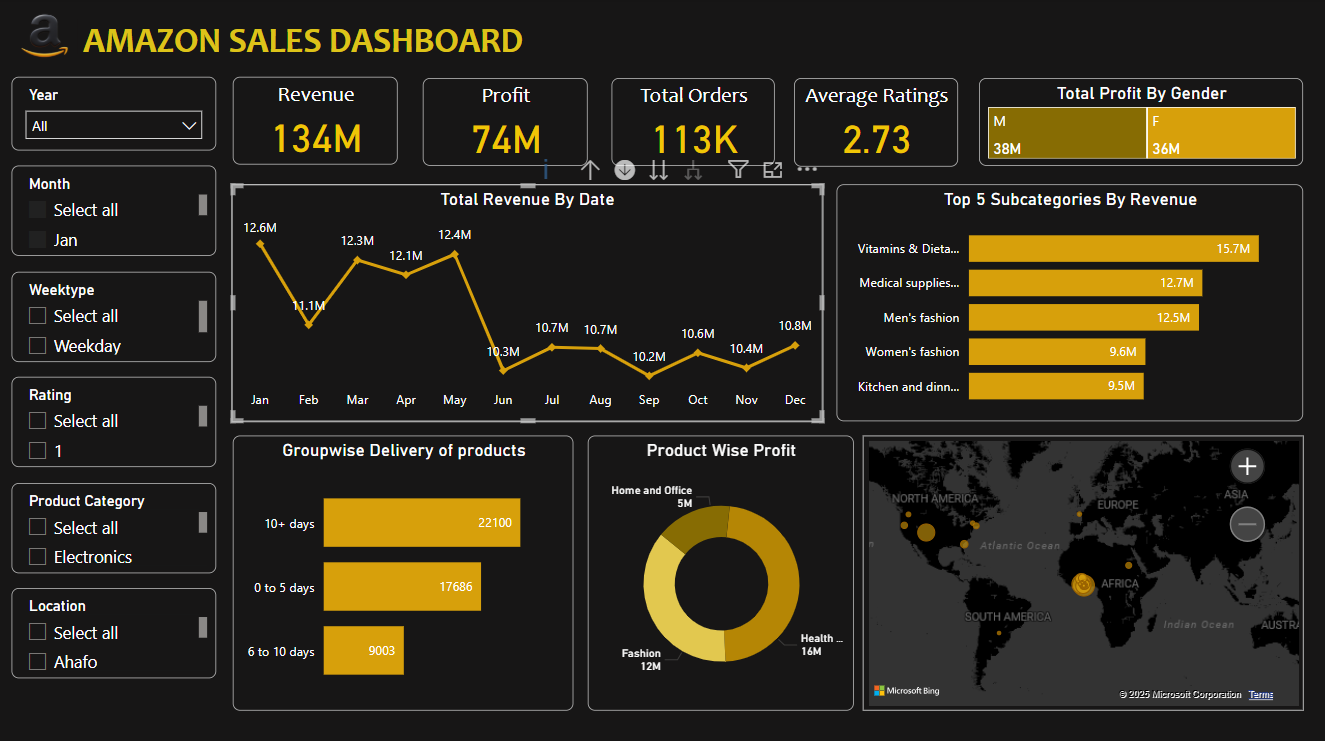

The page's visual inventory and layout, read from the dashboard file:
{"tool":"powerbi","page":{"name":"Page 1","canvas":[1280,720],"ordinal":0},"visuals":[{"type":"textbox","title":"AMAZON SALES DASHBOARD","box":[76.2,20,450,33.8],"z":0},{"type":"slicer","title":"Year","fields":{"Values":["Calender.Year"]},"box":[12.1,76,197.9,71.2],"z":1000},{"type":"slicer","fields":{"Values":["Calender.Month"]},"box":[12.1,162.1,197.9,86.9],"z":2000},{"type":"slicer","fields":{"Values":["Calender.Weektype"]},"box":[12.1,264,197.9,86.9],"z":3000},{"type":"slicer","fields":{"Values":["Ecommerce.Rating"]},"box":[12.1,365.8,197.9,86.9],"z":4000},{"type":"slicer","fields":{"Values":["Ecommerce.Product Category"]},"box":[12.1,467.6,197.9,86.9],"z":5000},{"type":"slicer","fields":{"Values":["Ecommerce.Location"]},"box":[12.1,569.4,197.9,86.9],"z":6000},{"type":"card","title":"Revenue","fields":{"Values":["All Measures.Total Revenue"]},"box":[225.3,76.3,158.9,85.1],"z":7000},{"type":"card","title":"Profit","fields":{"Values":["All Measures.Total Profit"]},"box":[409.2,77.6,158.9,85.1],"z":8000},{"type":"card","title":"Total Orders","fields":{"Values":["All Measures.Total Orders"]},"box":[590.7,77.6,157.7,85.1],"z":9000},{"type":"card","title":"Average Ratings","fields":{"Values":["All Measures.Average Ratings"]},"box":[767.3,77.2,158,85.7],"z":10000},{"type":"image","box":[12.5,7.5,63.8,58.8],"z":11000},{"type":"lineChart","title":"Total Revenue By Date","fields":{"Category":["Calender.Year","Calender.Quarter","Calender.Month","Calender.Weektype"],"Y":["All Measures.Total Revenue"]},"box":[225,180,570,228.8],"z":12000},{"type":"clusteredBarChart","title":"Top 5 Subcategories By Revenue","fields":{"Category":["Ecommerce.SubCategory"],"Y":["All Measures.Total Revenue"]},"box":[808.4,180.2,450.5,229],"z":13000},{"type":"map","fields":{"Category":["Ecommerce.Location"],"Size":["All Measures.Total Revenue"]},"box":[833.5,421.7,425.5,265.3],"z":14000},{"type":"clusteredBarChart","title":"Groupwise Delivery of products","fields":{"Category":["Ecommerce.Delivery Days (groups)"],"Y":["CountNonNull(Ecommerce.Product)"]},"box":[225.3,421.7,329.1,265.3],"z":15000},{"type":"donutChart","title":"Product Wise Profit","fields":{"Category":["Ecommerce.Product Category"],"Y":["All Measures.Total Profit"]},"box":[568.2,421.7,256.6,265.3],"z":16000},{"type":"treemap","title":"Total Profit By Gender","fields":{"Group":["Ecommerce.Customer Gender"],"Values":["All Measures.Total Profit"]},"box":[946.1,77.6,312.9,85.1],"z":17000}]}

Visuals, with their boxes in screenshot pixels (x1, y1, x2, y2), scaled from the page's 1280x720 canvas onto the 1325x741 screenshot:
"AMAZON SALES DASHBOARD" textbox: region(79, 21, 545, 55)
"Year" slicer: region(13, 78, 217, 151)
slicer - Calender.Month: region(13, 167, 217, 256)
slicer - Calender.Weektype: region(13, 272, 217, 361)
slicer - Ecommerce.Rating: region(13, 376, 217, 466)
slicer - Ecommerce.Product Category: region(13, 481, 217, 571)
slicer - Ecommerce.Location: region(13, 586, 217, 675)
"Revenue" card: region(233, 79, 398, 166)
"Profit" card: region(424, 80, 588, 167)
"Total Orders" card: region(611, 80, 775, 167)
"Average Ratings" card: region(794, 79, 958, 168)
image: region(13, 8, 79, 68)
"Total Revenue By Date" lineChart: region(233, 185, 823, 421)
"Top 5 Subcategories By Revenue" clusteredBarChart: region(837, 185, 1303, 421)
map - Ecommerce.Location x All Measures.Total Revenue: region(863, 434, 1303, 707)
"Groupwise Delivery of products" clusteredBarChart: region(233, 434, 574, 707)
"Product Wise Profit" donutChart: region(588, 434, 854, 707)
"Total Profit By Gender" treemap: region(979, 80, 1303, 167)
